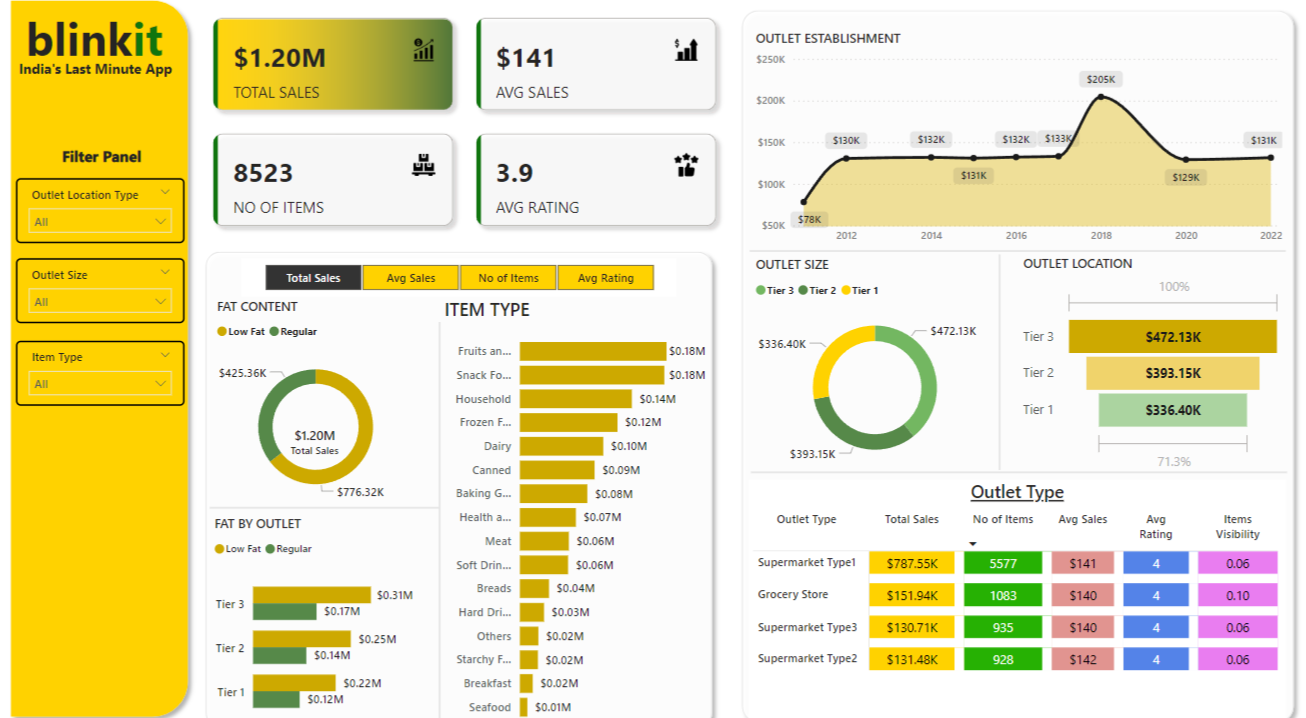

The page's visual inventory and layout, read from the dashboard file:
{"tool":"powerbi","page":{"name":"Page 1","canvas":[1400,800],"ordinal":0},"visuals":[{"type":"shape","box":[15,0,205.6,775.9],"z":0},{"type":"textbox","box":[34.5,10.5,168.1,75],"z":1000},{"type":"textbox","box":[24,66,178.6,61.5],"z":2000},{"type":"cardVisual","fields":{"Data":["BlinkIT Grocery Data.Total Sales","BlinkIT Grocery Data.Avg Sales","BlinkIT Grocery Data.No of Items","BlinkIT Grocery Data.Avg Rating"]},"box":[220.6,10.5,567.3,255.1],"z":3000},{"type":"shape","box":[220.6,265.7,553.8,520.8],"z":4000},{"type":"donutChart","title":"FAT CONTENT","fields":{"Y":["BlinkIT Grocery Data.Total Sales"],"Category":["BlinkIT Grocery Data.Item Fat Content"]},"box":[237.1,322.7,219.1,229.6],"z":5000},{"type":"slicer","fields":{"Values":["Metrics.Metrics"]},"box":[267.2,282.2,460.8,40.5],"z":6000},{"type":"cardVisual","fields":{"Data":["BlinkIT Grocery Data.Total Sales"]},"box":[291.2,442.8,108.1,60],"z":7000},{"type":"clusteredBarChart","title":"FAT BY OUTLET","fields":{"Y":["BlinkIT Grocery Data.Total Sales"],"Category":["BlinkIT Grocery Data.Outlet Location Type"],"Series":["BlinkIT Grocery Data.Item Fat Content"]},"box":[234.1,552.3,220.6,229.6],"z":8000},{"type":"shape","box":[234.1,540.3,243.1,12],"z":9000},{"type":"shape","box":[456.3,349.7,42,432.2],"z":10000},{"type":"barChart","title":"ITEM TYPE","fields":{"Y":["BlinkIT Grocery Data.Total Sales"],"Category":["BlinkIT Grocery Data.Item Type"]},"box":[477.3,322.7,286.7,459.3],"z":11000},{"type":"shape","box":[788,10.5,601.8,771.4],"z":12000},{"type":"lineChart","title":"OUTLET ESTABLISHMENT","fields":{"Category":["BlinkIT Grocery Data.Outlet Establishment Year"],"Y":["BlinkIT Grocery Data.Total Sales"]},"box":[807.5,39,567.3,235.6],"z":13000},{"type":"shape","box":[806,265.7,567.3,16.5],"z":14000},{"type":"donutChart","title":"OUTLET SIZE","fields":{"Y":["BlinkIT Grocery Data.Total Sales"],"Category":["BlinkIT Grocery Data.Outlet Location Type"]},"box":[807.5,279.2,262.7,234.1],"z":15000},{"type":"shape","box":[1049.1,277.7,42,228.1],"z":16000},{"type":"funnel","title":"OUTLET LOCATION","fields":{"Category":["BlinkIT Grocery Data.Outlet Location Type"],"Y":["BlinkIT Grocery Data.Total Sales"]},"box":[1089.6,277.7,283.7,234.1],"z":17000},{"type":"shape","box":[807.5,499.8,567.3,16.5],"z":18000},{"type":"pivotTable","title":"Outlet Type","fields":{"Rows":["BlinkIT Grocery Data.Outlet Type"],"Values":["BlinkIT Grocery Data.Total Sales","BlinkIT Grocery Data.No of Items","BlinkIT Grocery Data.Avg Sales","BlinkIT Grocery Data.Avg Rating","Avg(BlinkIT Grocery Data.Item Visibility)"]},"box":[804.5,516.3,568.8,255.1],"z":19000},{"type":"slicer","fields":{"Values":["BlinkIT Grocery Data.Outlet Location Type"]},"box":[28.5,196.6,178.6,69],"z":20000},{"type":"slicer","fields":{"Values":["BlinkIT Grocery Data.Outlet Size"]},"box":[28.5,282.2,178.6,69],"z":21000},{"type":"slicer","fields":{"Values":["BlinkIT Grocery Data.Item Type"]},"box":[28.5,369.2,178.6,69],"z":22000},{"type":"textbox","box":[48,157.6,144.1,39],"z":22001}]}

Visuals, with their boxes on the page's 1400x800 design canvas (x1, y1, x2, y2). These are canvas units, not pixel positions in the 1306x718 screenshot, which may show the page scaled, cropped or inside an application window:
shape: rect(15, 0, 221, 776)
textbox: rect(34, 10, 203, 86)
textbox: rect(24, 66, 203, 128)
cardVisual - BlinkIT Grocery Data.Total Sales x BlinkIT Grocery Data.Avg Sales: rect(221, 10, 788, 266)
shape: rect(221, 266, 774, 786)
"FAT CONTENT" donutChart: rect(237, 323, 456, 552)
slicer - Metrics.Metrics: rect(267, 282, 728, 323)
cardVisual - BlinkIT Grocery Data.Total Sales: rect(291, 443, 399, 503)
"FAT BY OUTLET" clusteredBarChart: rect(234, 552, 455, 782)
shape: rect(234, 540, 477, 552)
shape: rect(456, 350, 498, 782)
"ITEM TYPE" barChart: rect(477, 323, 764, 782)
shape: rect(788, 10, 1390, 782)
"OUTLET ESTABLISHMENT" lineChart: rect(808, 39, 1375, 275)
shape: rect(806, 266, 1373, 282)
"OUTLET SIZE" donutChart: rect(808, 279, 1070, 513)
shape: rect(1049, 278, 1091, 506)
"OUTLET LOCATION" funnel: rect(1090, 278, 1373, 512)
shape: rect(808, 500, 1375, 516)
"Outlet Type" pivotTable: rect(804, 516, 1373, 771)
slicer - BlinkIT Grocery Data.Outlet Location Type: rect(28, 197, 207, 266)
slicer - BlinkIT Grocery Data.Outlet Size: rect(28, 282, 207, 351)
slicer - BlinkIT Grocery Data.Item Type: rect(28, 369, 207, 438)
textbox: rect(48, 158, 192, 197)
